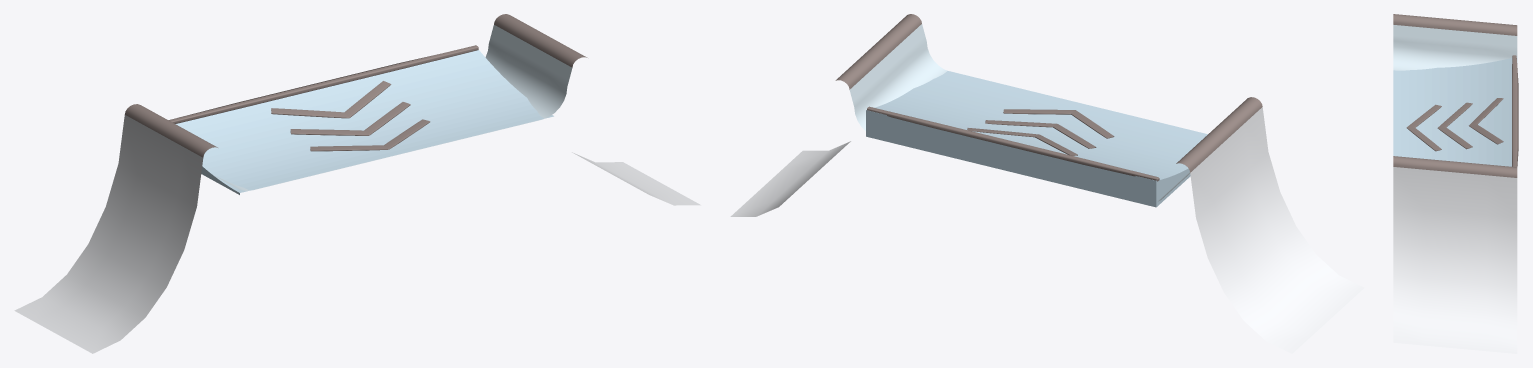
File: BobsledKicker.glb
3 views of the same model, side by side, from view 1: azimuth 30°, elevation 25°; view 2: azimuth 150°, elevation 25°; view 3: azimuth 270°, elevation 25° (orthographic). The views are drawn at different scales.
Parts seen in each view (by area): view 1: Kicker, Snow, Trim, Ice; view 2: Snow, Kicker, Trim, Ice; view 3: Snow, Kicker, Trim, Ice.
Boxes of the visible parts, <box> form: Kicker: <box>175,50,553,194</box>; Snow: <box>14,115,700,353</box>; Trim: <box>125,14,587,157</box>; Ice: <box>214,25,572,190</box>; Snow: <box>730,107,1364,353</box>; Kicker: <box>866,71,1207,207</box>; Trim: <box>835,14,1262,181</box>; Ice: <box>849,24,1190,201</box>; Snow: <box>1393,167,1517,353</box>; Kicker: <box>1393,57,1517,166</box>; Trim: <box>1393,14,1518,177</box>; Ice: <box>1393,25,1517,70</box>.
Bounding box in the file's own units: 71.6 × 21.5 × 16.18.
